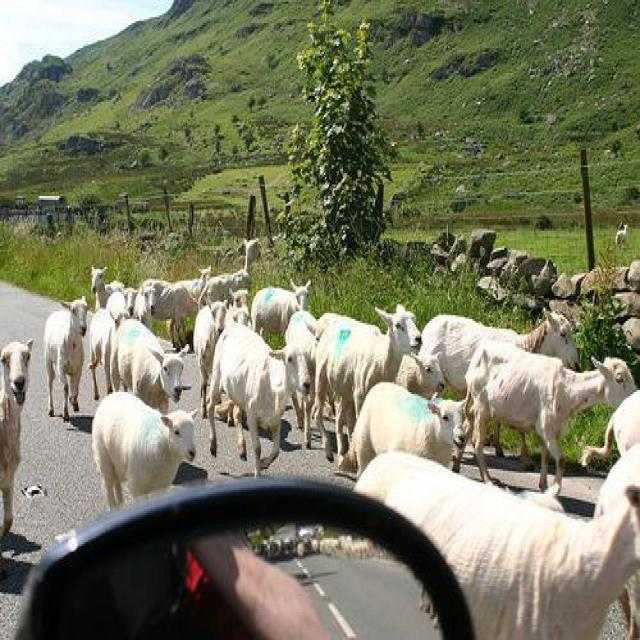Sheep: (351, 444, 638, 632), (452, 342, 639, 494), (314, 304, 421, 465), (208, 323, 314, 478), (418, 308, 580, 394), (92, 392, 198, 511), (346, 382, 470, 480), (112, 317, 190, 415), (43, 294, 91, 425), (250, 279, 311, 348)
